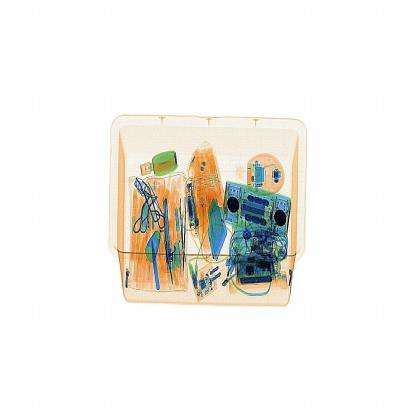pliers: (160, 191, 175, 273)
